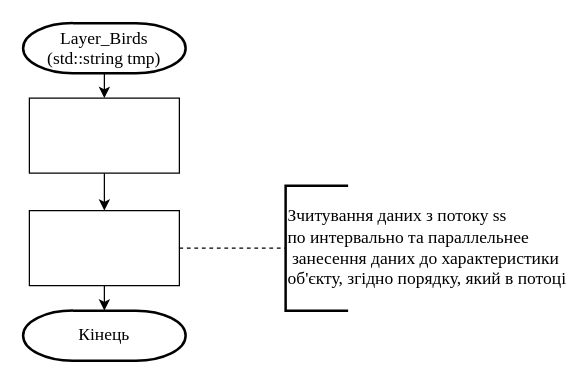
Image size: 588x383. Some labels were removed from this diagram. The centre of each missing label's shape, as x and y in pixels:
ss >> c haracteristic object: the point at 103,247
std::stringstream ss: the point at 103,135
